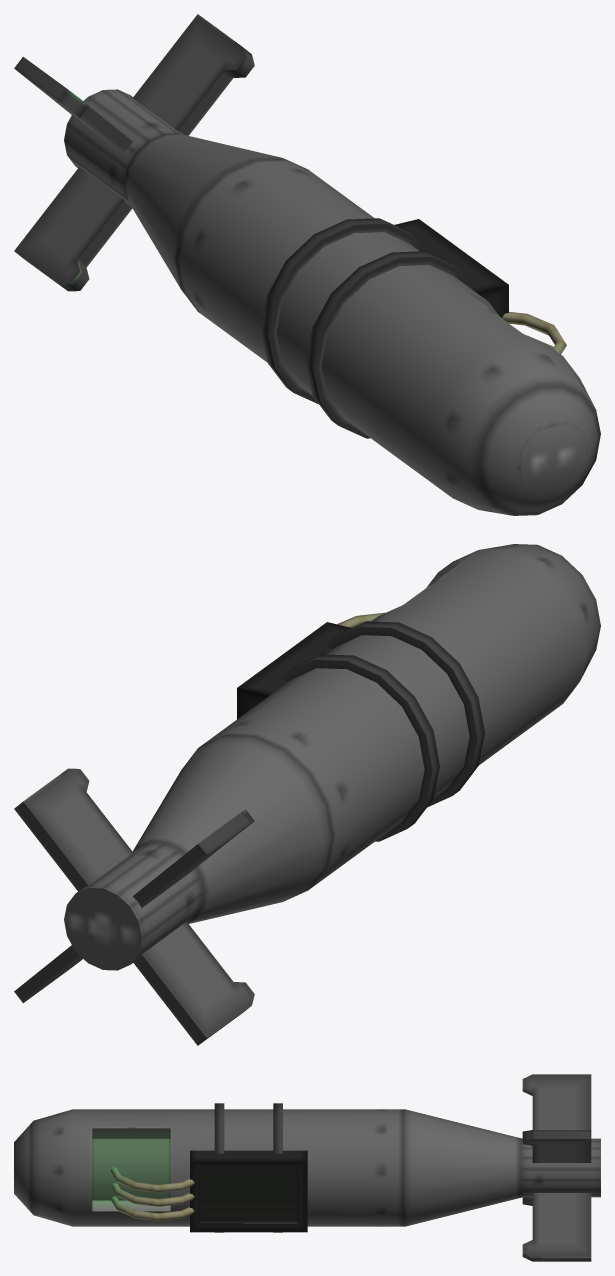
The model's file is fstbmb.obj.
The picture shows the model from 3 angles, top to bottom: view 1: azimuth 30°, elevation 25°; view 2: azimuth 150°, elevation 25°; view 3: azimuth 270°, elevation 25°; orthographic projection. The views are drawn at different scales.
Parts seen in each view (by area): view 1: Body; view 2: Body; view 3: Body, Balefire.
Part boxes in pixels (x1=…): Body: x1=14, y1=14, x2=600, y2=515; Body: x1=14, y1=544, x2=600, y2=1045; Body: x1=14, y1=1074, x2=600, y2=1261; Balefire: x1=92, y1=1138, x2=170, y2=1200.
Bounding box in the file's own units: 2.03 × 1.86 × 7.5.
